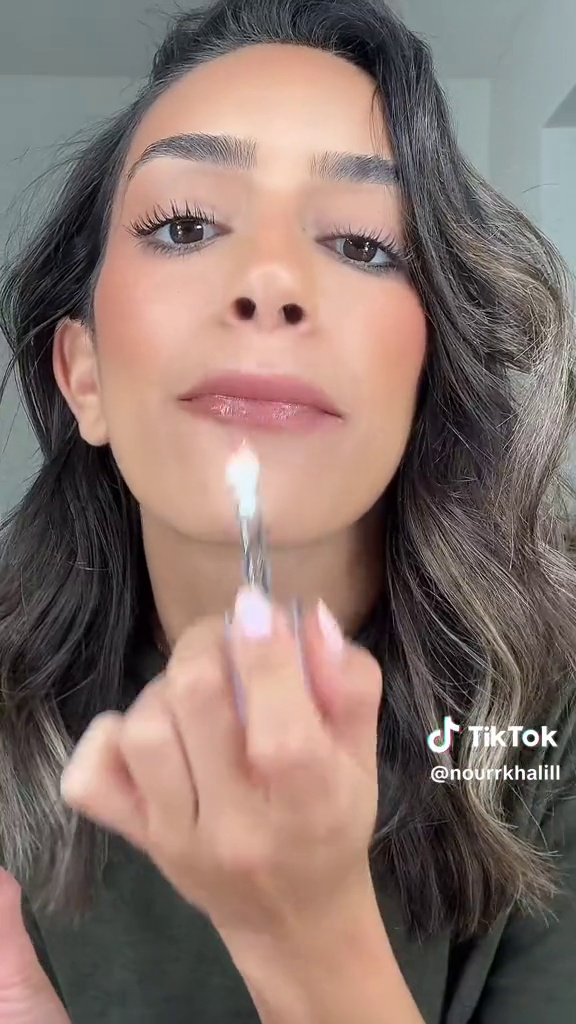train' :'yolo_data/train/images',: (204, 444, 326, 777)
